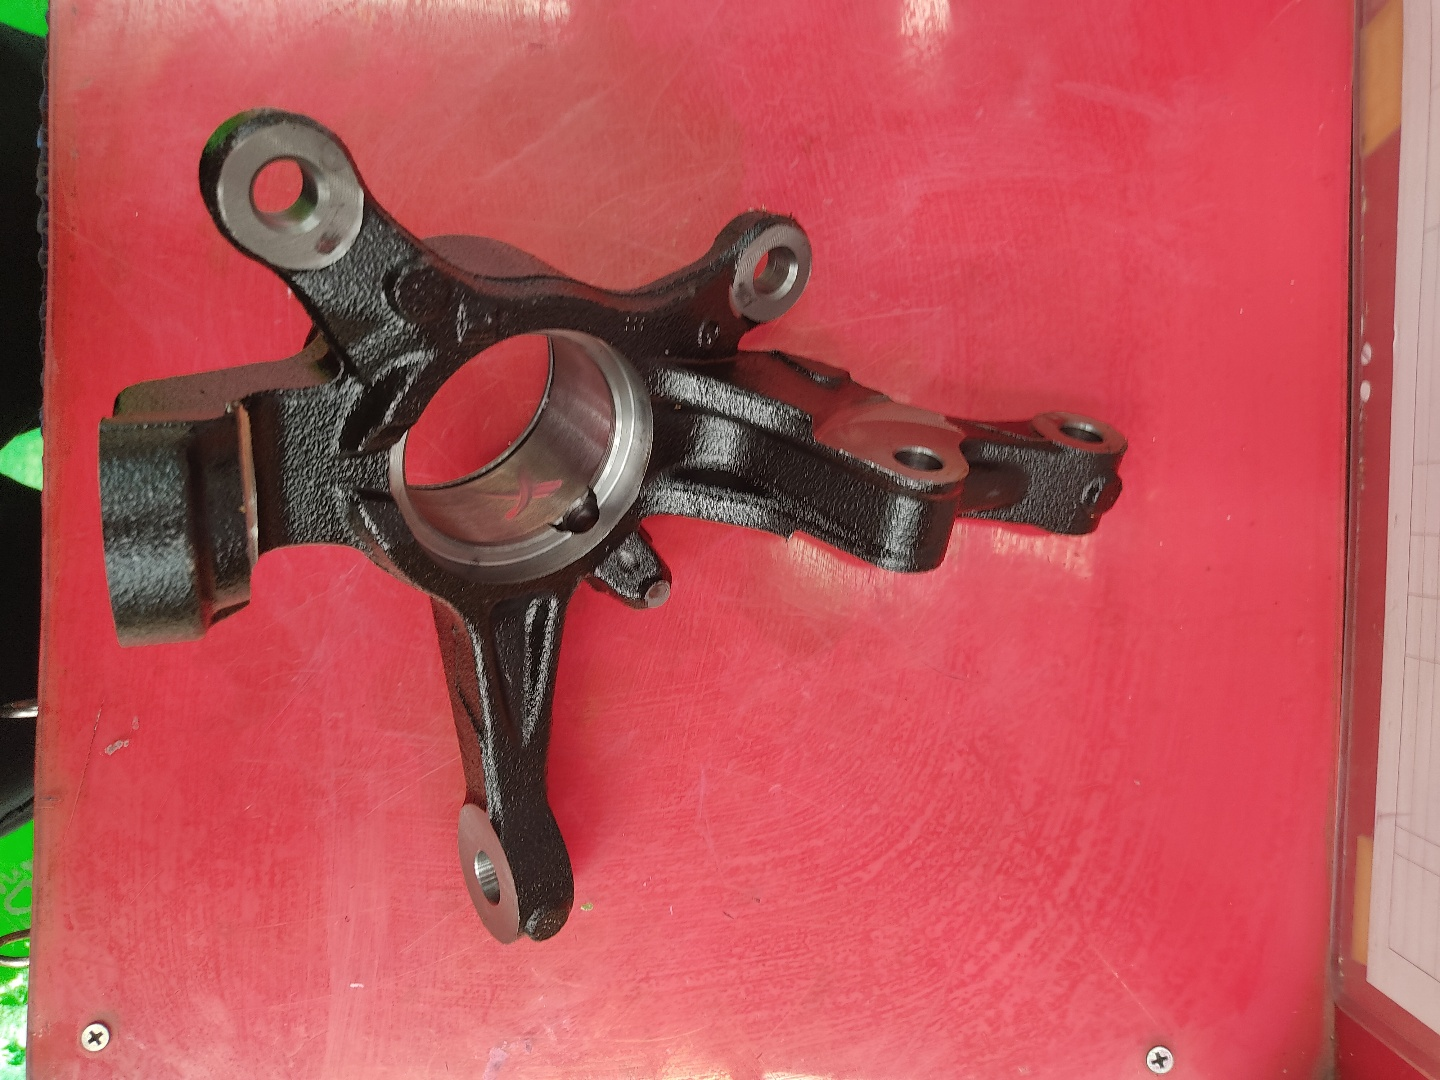abs-rh: (85, 92, 1135, 956)
